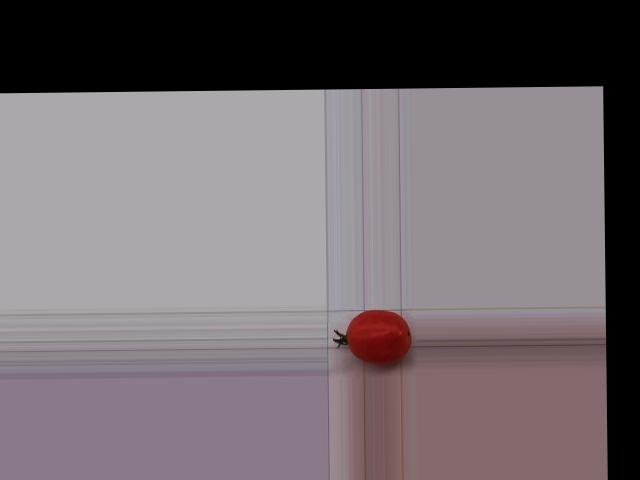tomato: (346, 309, 411, 364)
